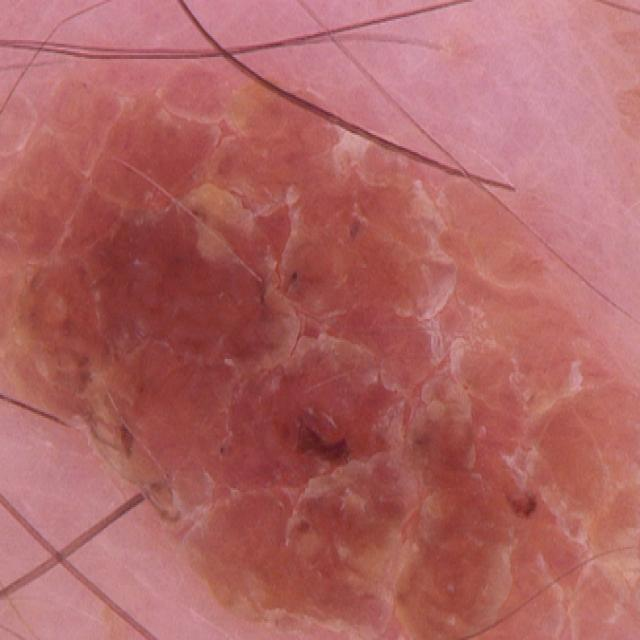Keratosis: (0, 36, 640, 640)
